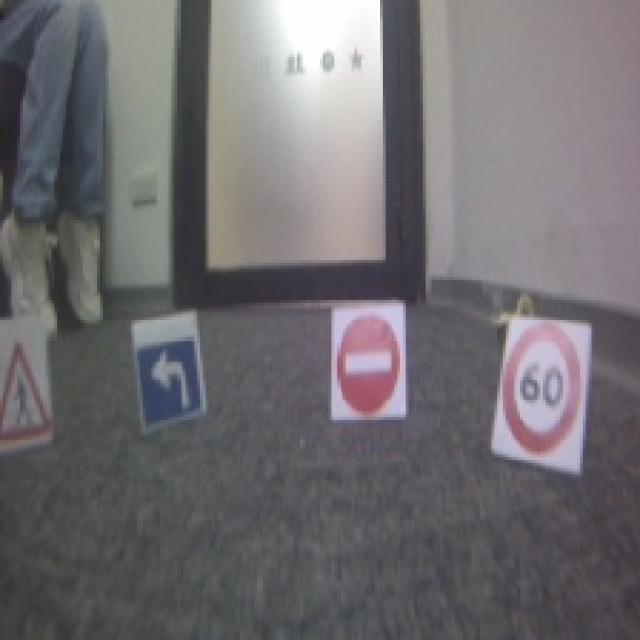DoNotEnterSign: (336, 311, 405, 419)
